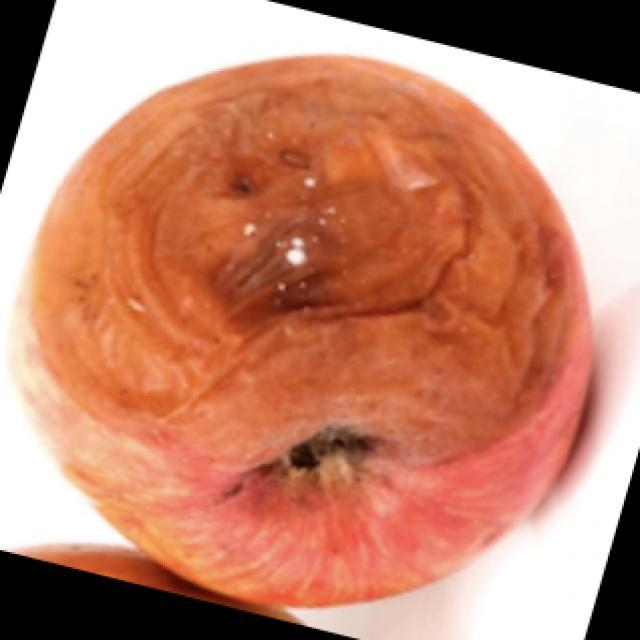Rotten: (64, 61, 584, 606)
